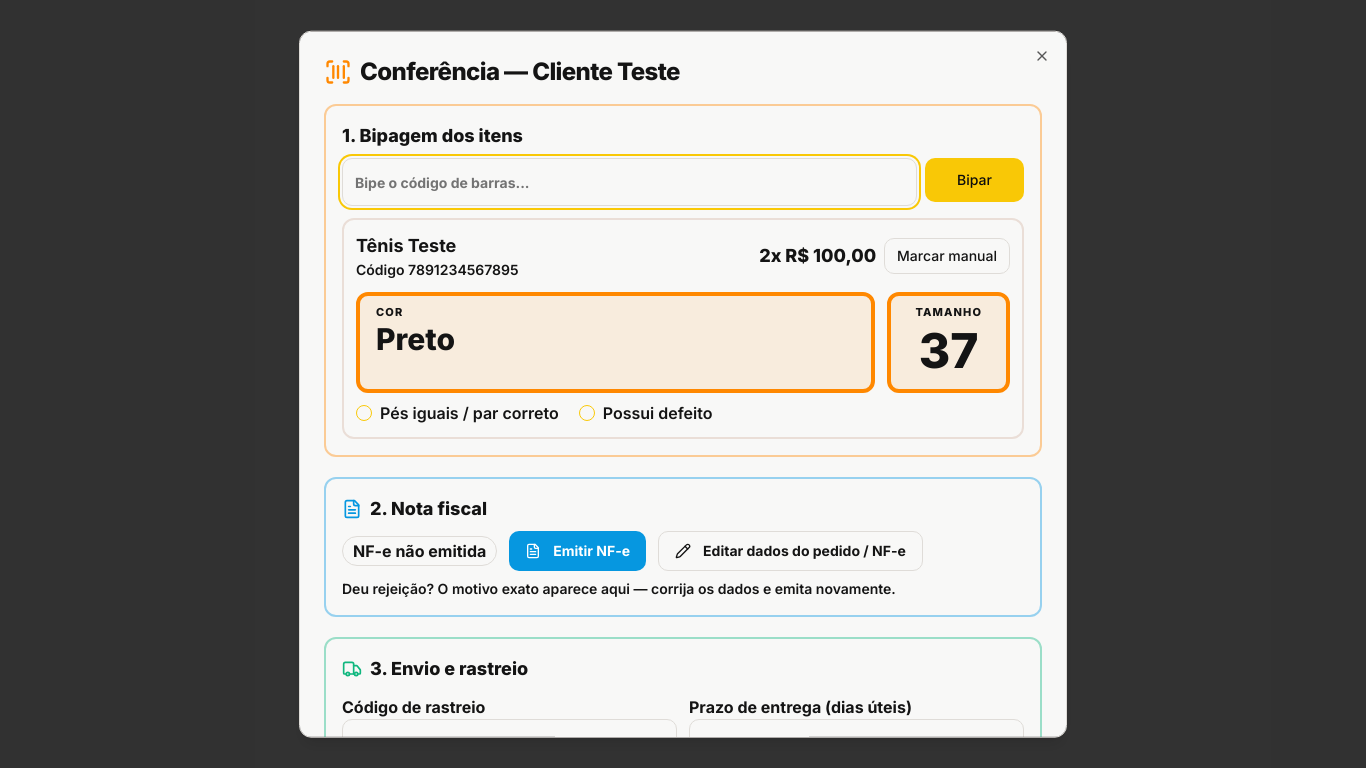
PDV — conferência › código antigo registra o texto original e a linha inteira com quantidade 2
Step 1. Type " 7891234567895 " into the field with placeholder "Bipe o código de barras..." → point(630, 182), box [342,158,917,206]
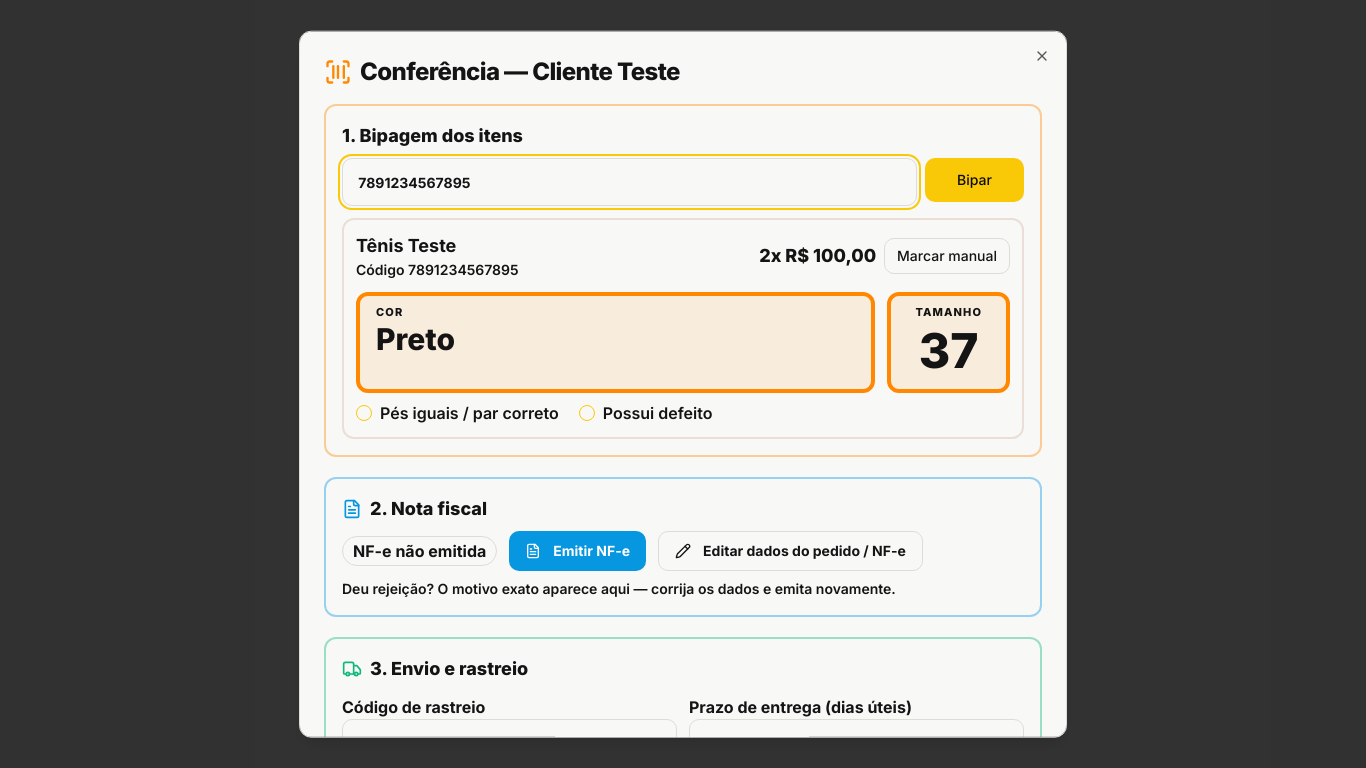
Step 2. Press Enter in the field with placeholder "Bipe o código de barras...", box [342,158,917,206]
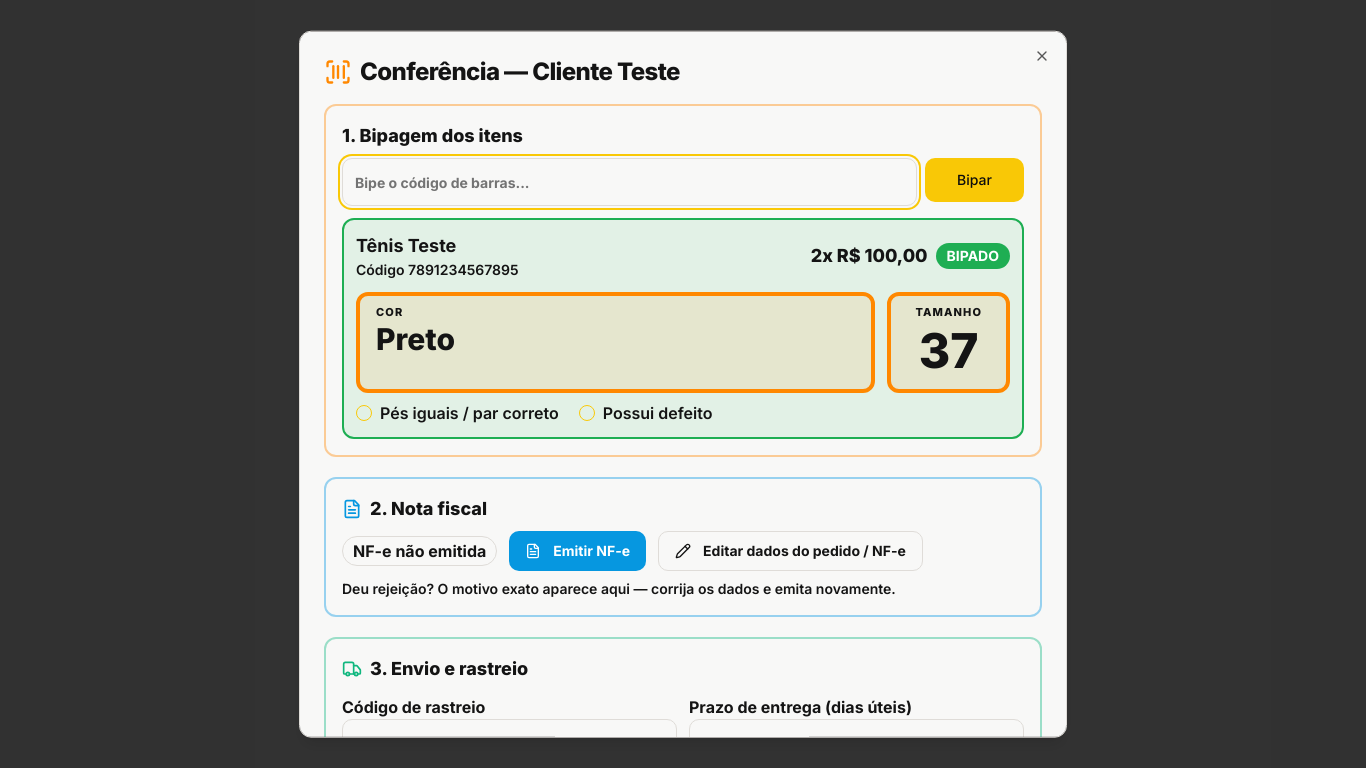
Result: the text "BIPADO" is shown at [936,243,1010,269]
